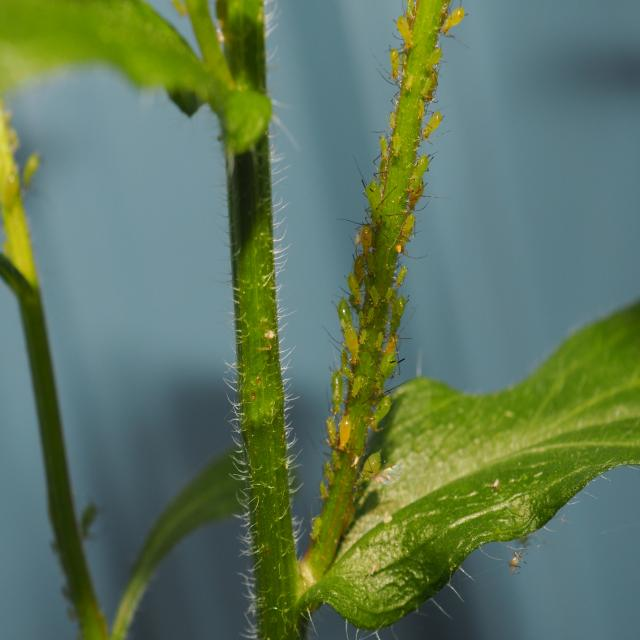aphid: (408, 149, 435, 195), (356, 456, 386, 494), (341, 322, 364, 366), (385, 48, 411, 86), (388, 292, 410, 334), (440, 6, 462, 42), (335, 415, 354, 447), (374, 397, 390, 433)
